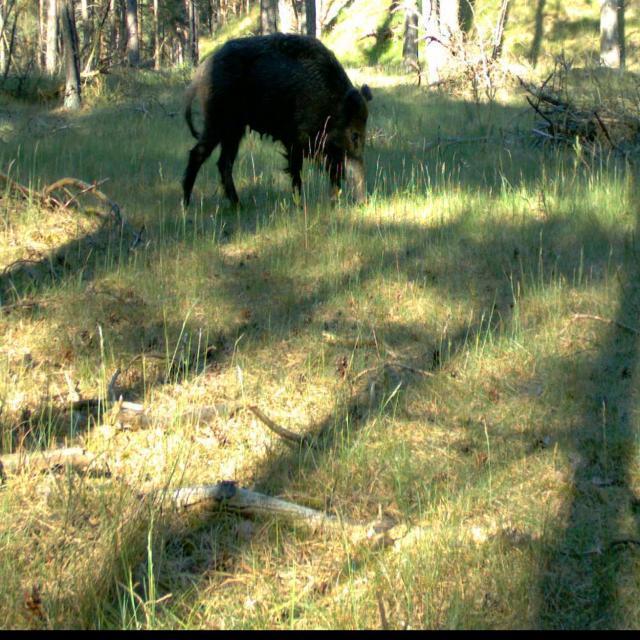pig: (148, 30, 444, 201)
